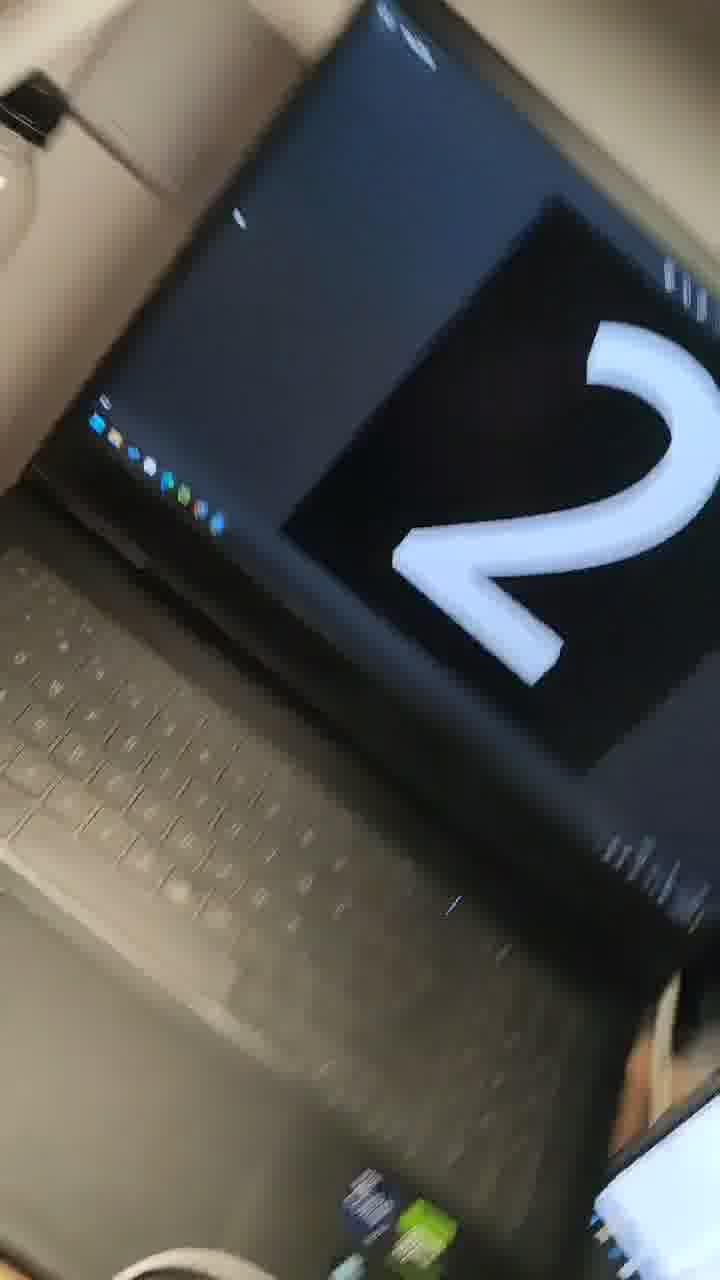two: (383, 270, 716, 704)
